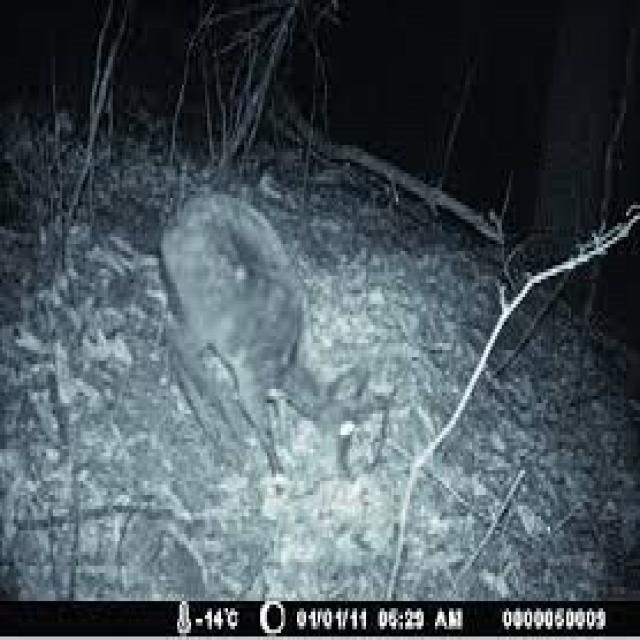elk: (134, 160, 402, 530)
